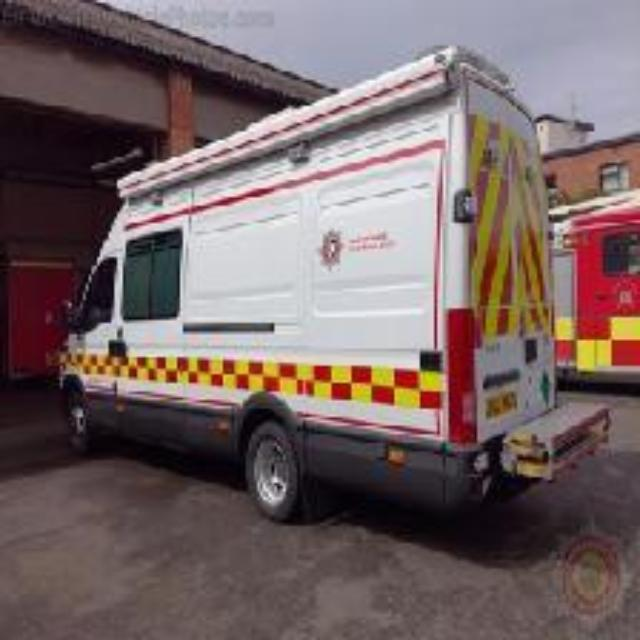emergency: (67, 35, 575, 535)
